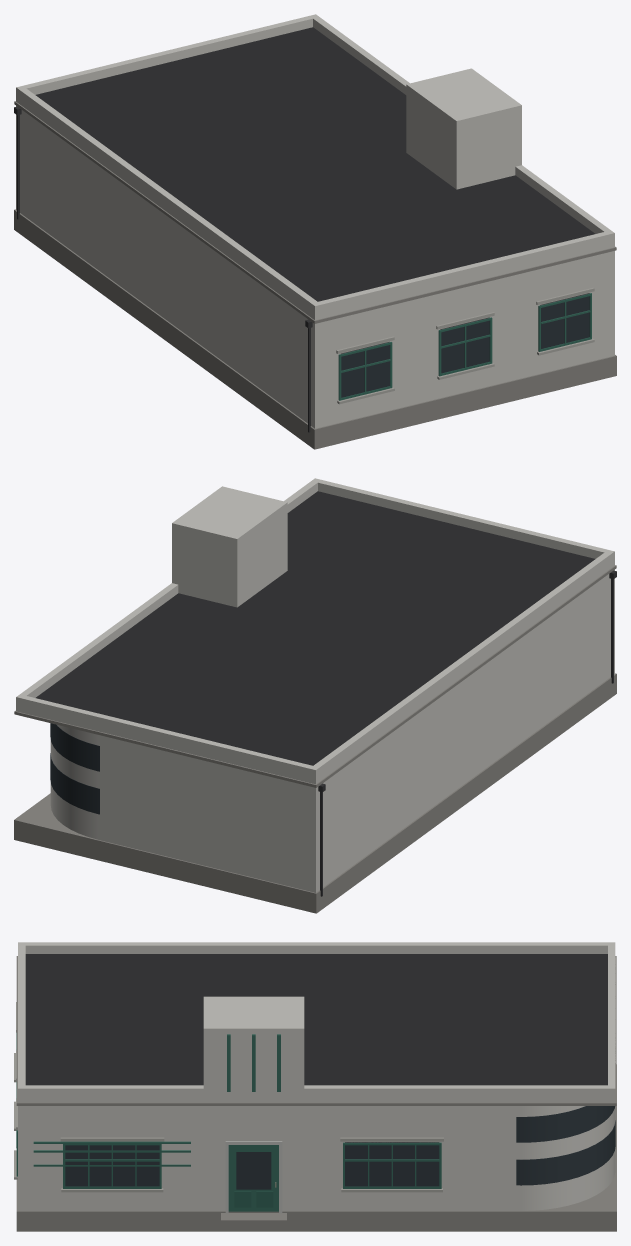
Rendered from SM_Prop_cafe_building_19.glb.
The picture shows the model from 3 angles, top to bottom: view 1: azimuth 30°, elevation 25°; view 2: azimuth 150°, elevation 25°; view 3: azimuth 270°, elevation 25°; orthographic projection.
Visible parts, largest first — view 1: SM_Prop_cafe_building_19; view 2: SM_Prop_cafe_building_19; view 3: SM_Prop_cafe_building_19.
Part boxes in pixels (x1,y1,x2,y2): SM_Prop_cafe_building_19: (14,14,616,449); SM_Prop_cafe_building_19: (14,478,616,913); SM_Prop_cafe_building_19: (14,942,616,1231).
Size of the model in its own units: 11.76 by 7.1 by 19.18.
